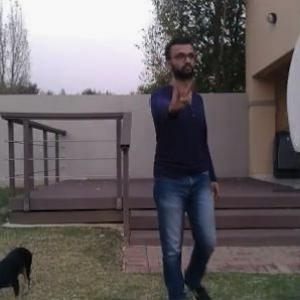takeoff-hand: (167, 72, 198, 113)
